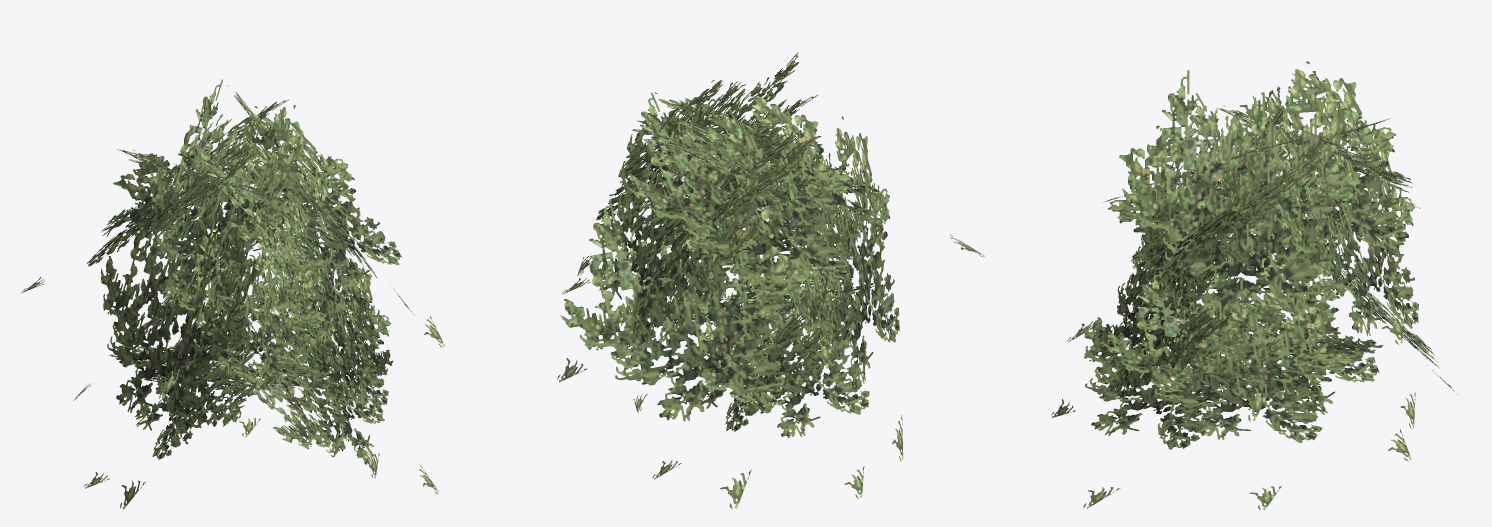
Rendered from tree_tamarix_top_b.dae.
3 views of the same model, side by side, from view 1: azimuth 30°, elevation 25°; view 2: azimuth 150°, elevation 25°; view 3: azimuth 270°, elevation 25° (orthographic). The views are drawn at different scales.
Visible parts, largest first — view 1: tree_oak_top_a; view 2: tree_oak_top_a; view 3: tree_oak_top_a.
Part boxes in pixels (left/top/right/bottom): tree_oak_top_a: left=21, top=79, right=444, bottom=509; tree_oak_top_a: left=557, top=52, right=984, bottom=509; tree_oak_top_a: left=1051, top=61, right=1458, bottom=509.
Size of the model in its own units: 10.11 by 10.06 by 10.23.
